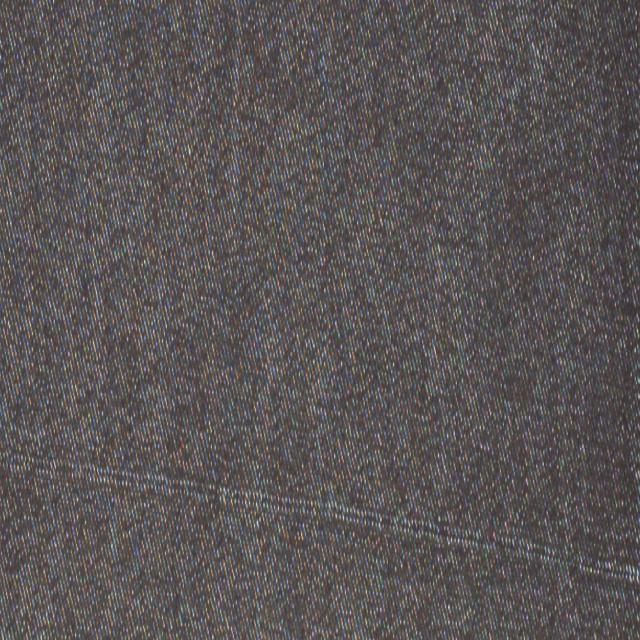Line: (2, 447, 640, 590)
